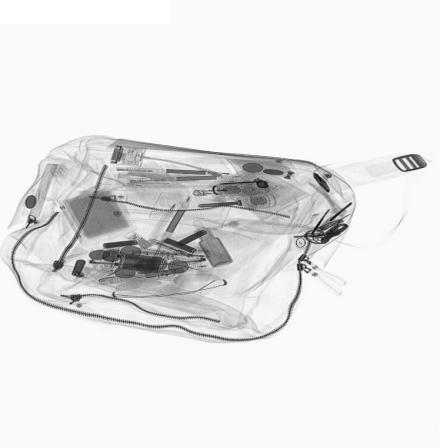Lighter: (194, 187, 246, 197)
